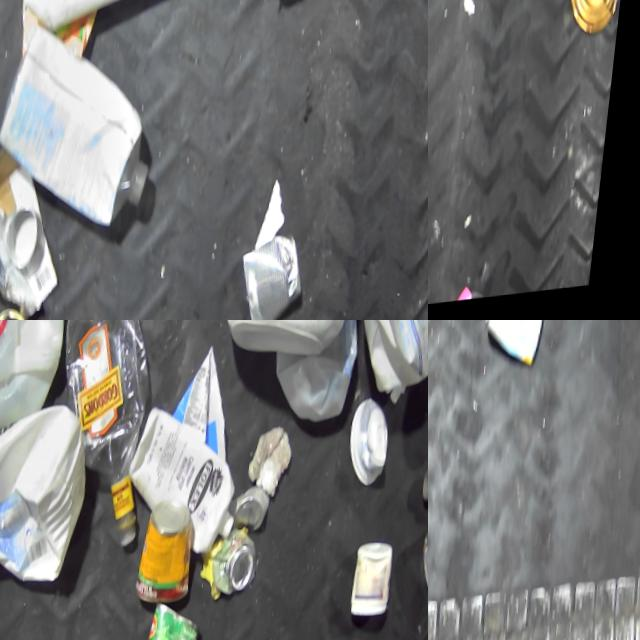can: (136, 500, 207, 614), (245, 239, 322, 320), (347, 401, 400, 496), (207, 531, 269, 605), (355, 545, 406, 628), (138, 601, 214, 640), (567, 0, 635, 43), (233, 489, 279, 540)
milk_jug: (0, 8, 179, 252), (0, 404, 104, 598), (0, 320, 78, 437), (345, 320, 428, 416)
non_white_jug: (213, 320, 368, 369), (478, 320, 553, 374)
